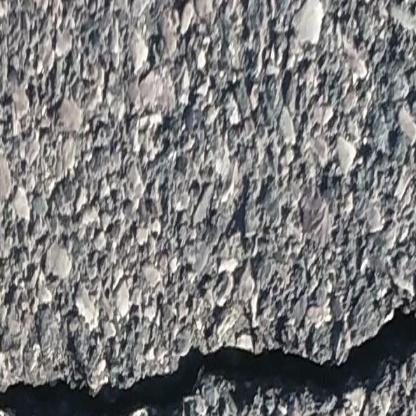Cracks: (0, 303, 416, 416)
